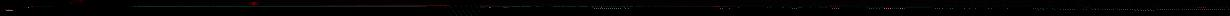Blue cone: (22, 7, 27, 8)
Yellow cone: (247, 2, 261, 6)
